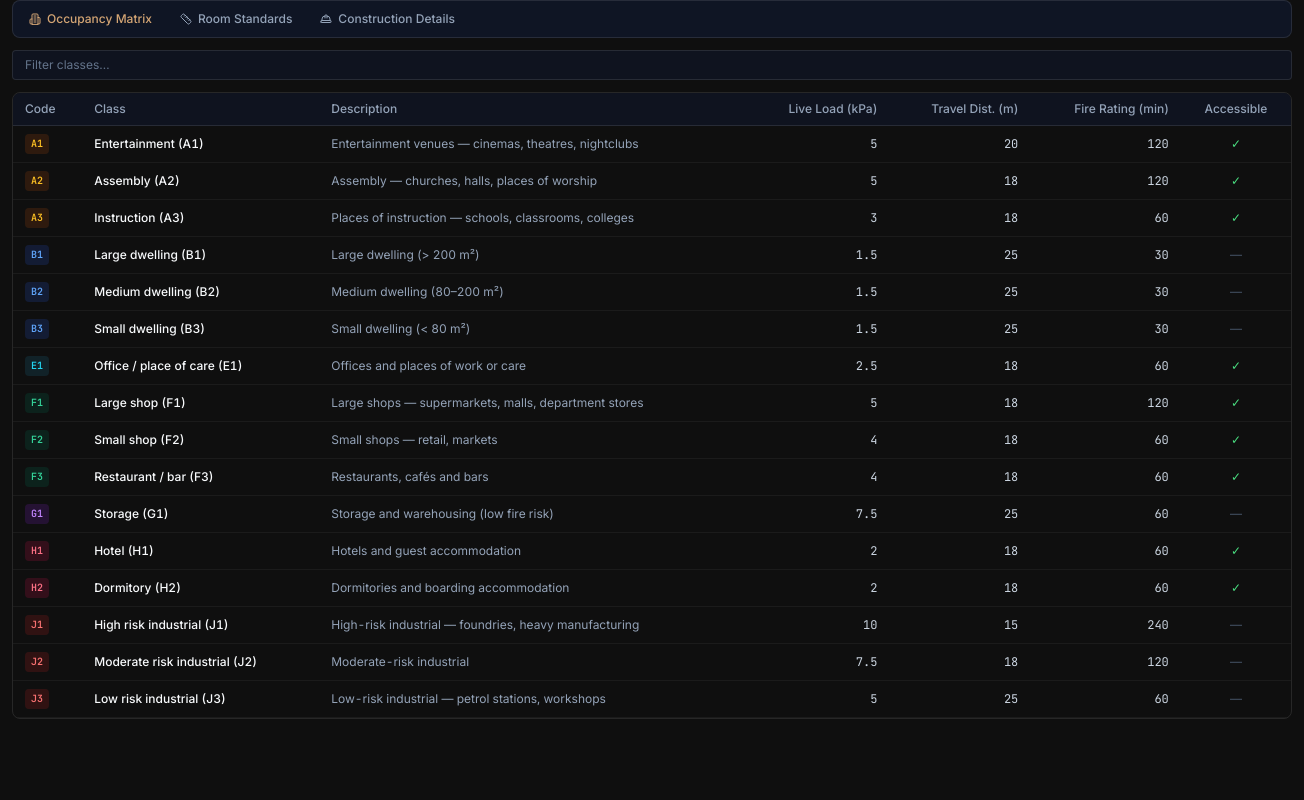
ConstructionDetailsBrowser › construction details tab › switches to construction details tab and shows categories
The image size is (1304, 800).
Click the button "Construction Details" at (388, 19), box x1=308 y1=5 x2=467 y2=33
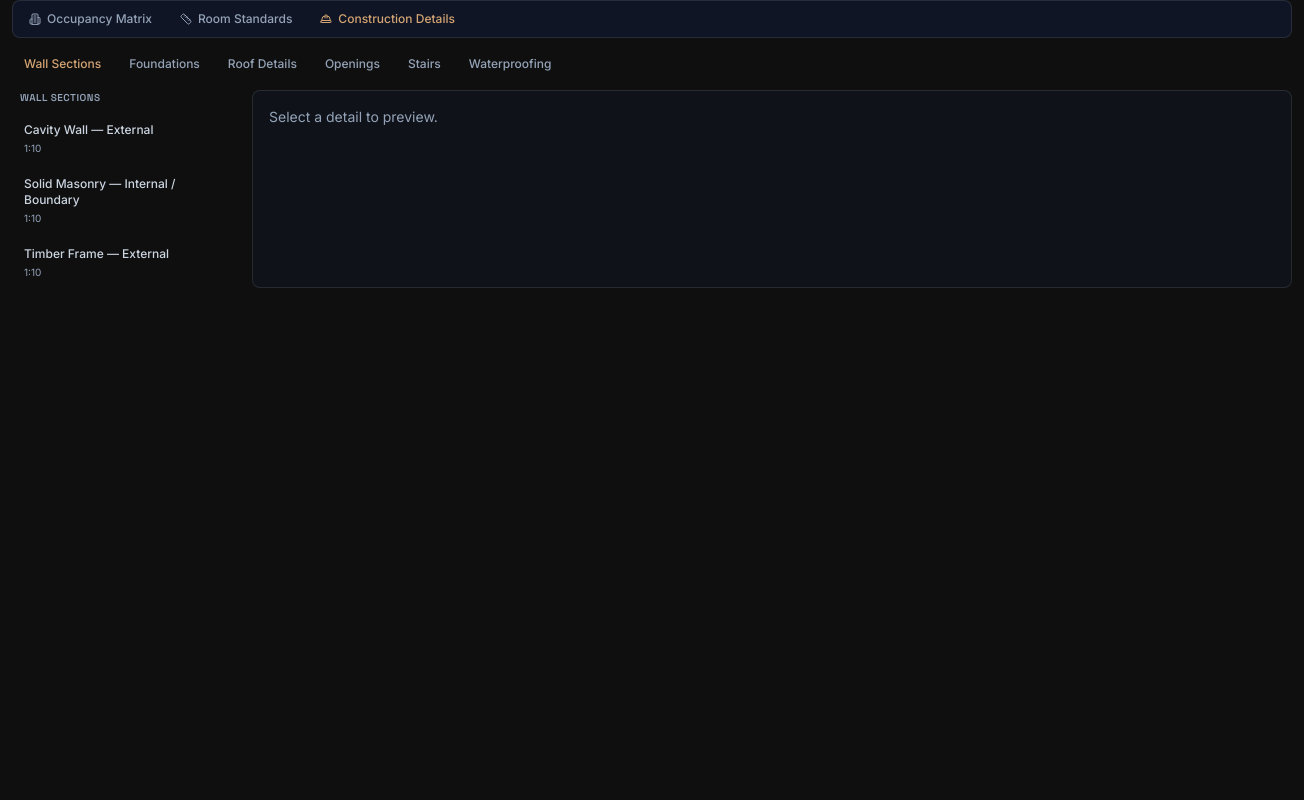
Now the element that starts with "Wall Sections" is shown, box x1=12 y1=50 x2=1292 y2=288
